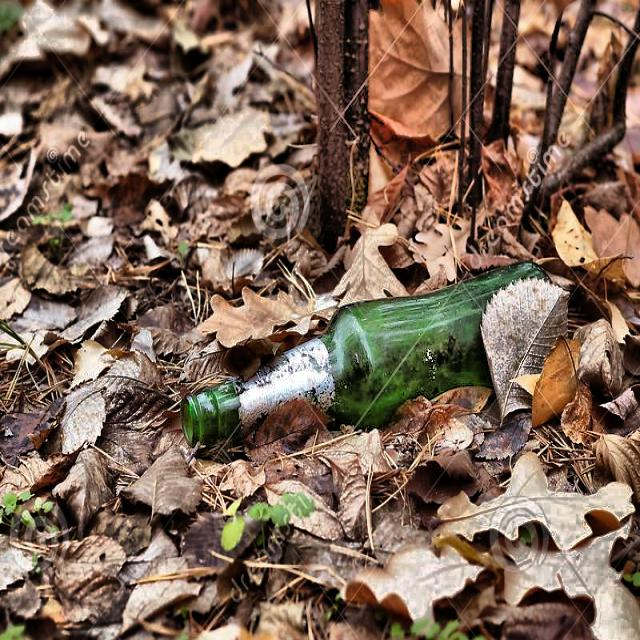glass: (174, 262, 555, 457)
